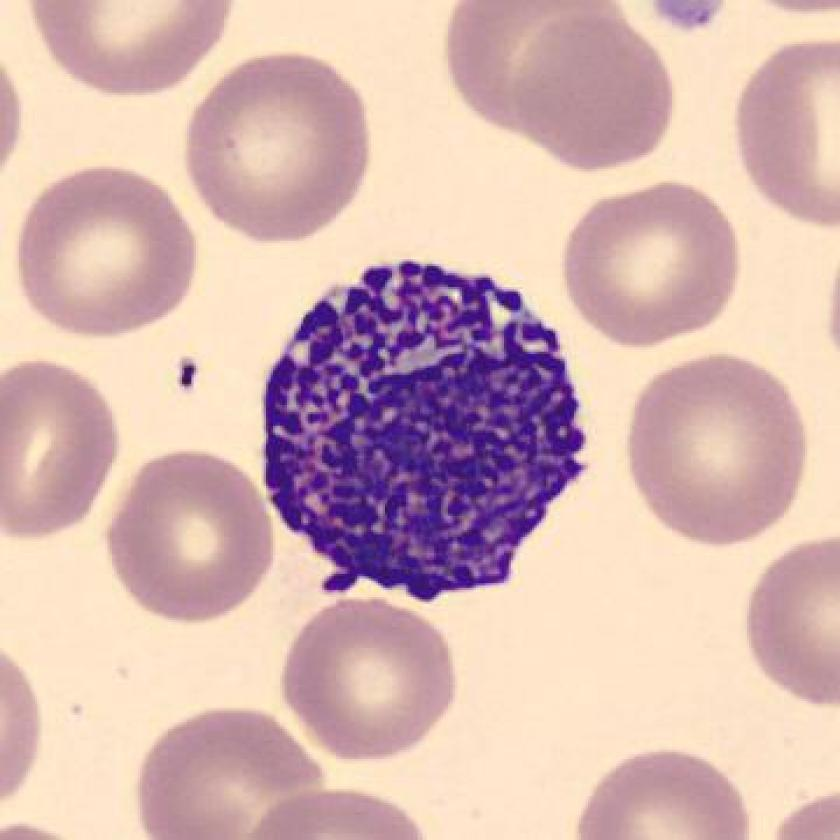basophil: (256, 249, 592, 605)
